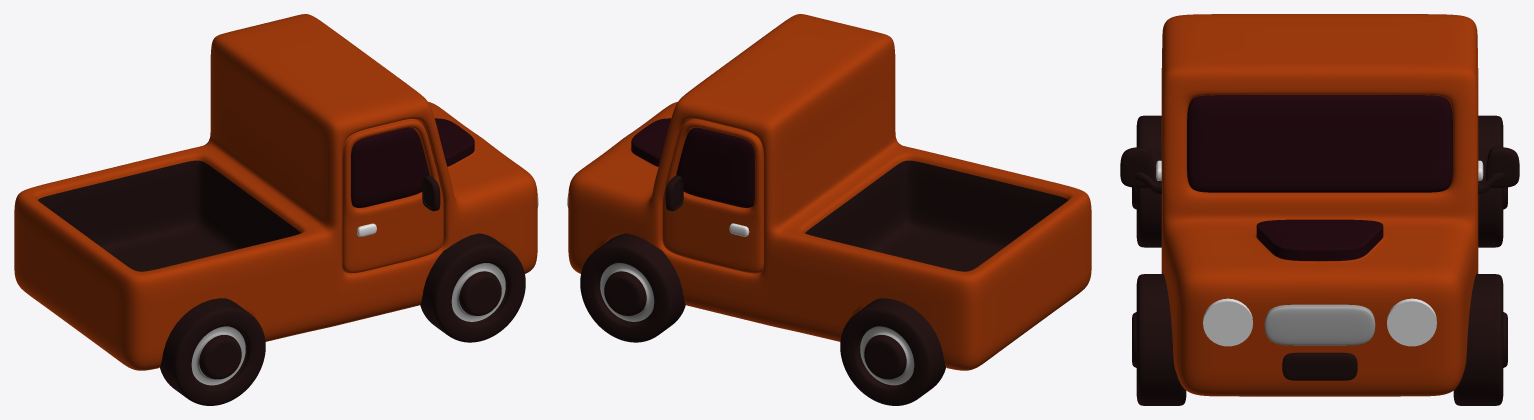
Rendered from pickup-3d-icon-26010491307.glb.
The picture shows the model from 3 angles, left to right: view 1: azimuth 30°, elevation 25°; view 2: azimuth 150°, elevation 25°; view 3: azimuth 270°, elevation 25°; orthographic projection. The views are drawn at different scales.
Visible parts, largest first — view 1: Body, Inner Body, Tires, Windows & Hood, Rims, Mirrirs; view 2: Body, Inner Body, Tires, Windows & Hood, Rims, Mirrirs; view 3: Body, Windows & Hood, Tires, Grill, Lamp, Mirrirs, Plate Number.
Boxes of the visible parts, left/top/right/bottom form: Body: left=14, top=14, right=537, bottom=370; Inner Body: left=38, top=160, right=300, bottom=271; Tires: left=160, top=233, right=525, bottom=405; Windows & Hood: left=351, top=118, right=474, bottom=207; Rims: left=191, top=263, right=505, bottom=385; Mirrirs: left=422, top=175, right=440, bottom=211; Body: left=568, top=14, right=1091, bottom=370; Inner Body: left=805, top=160, right=1067, bottom=271; Tires: left=580, top=233, right=945, bottom=405; Windows & Hood: left=631, top=118, right=754, bottom=207; Rims: left=600, top=263, right=914, bottom=385; Mirrirs: left=665, top=175, right=683, bottom=211; Body: left=1161, top=14, right=1478, bottom=396; Windows & Hood: left=1187, top=95, right=1452, bottom=260; Tires: left=1132, top=115, right=1507, bottom=405; Grill: left=1264, top=304, right=1375, bottom=345; Lamp: left=1203, top=298, right=1436, bottom=346; Mirrirs: left=1120, top=147, right=1519, bottom=193; Plate Number: left=1282, top=352, right=1357, bottom=380.
Size of the model in its own units: 0.824 by 0.4565 by 0.5381.
